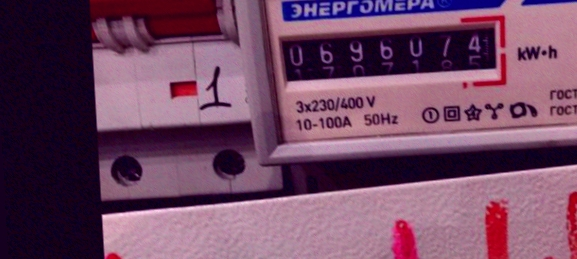0: (285, 42, 305, 67), (406, 33, 424, 59)
4: (464, 30, 481, 52)
5: (467, 54, 483, 70)
6: (377, 34, 396, 61), (316, 40, 335, 65)
7: (436, 32, 455, 58)
9: (346, 37, 364, 64)
screen: (267, 11, 511, 94)
